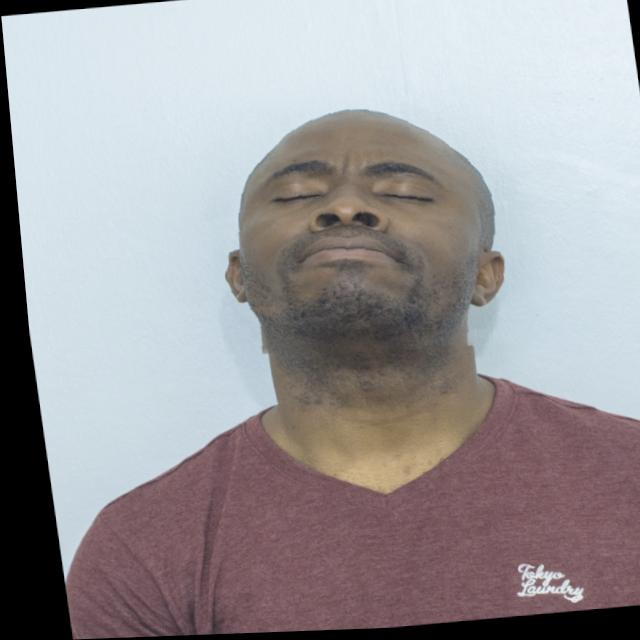sad: (186, 85, 529, 369)
